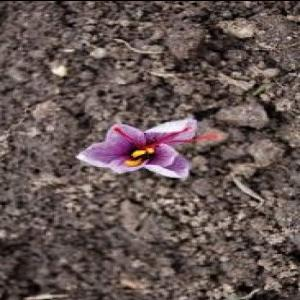Saffron: (76, 117, 195, 178)
